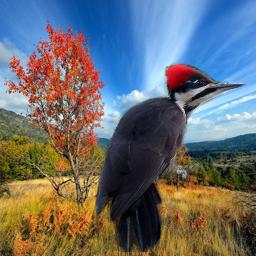Woodpecker: (88, 62, 249, 252)
